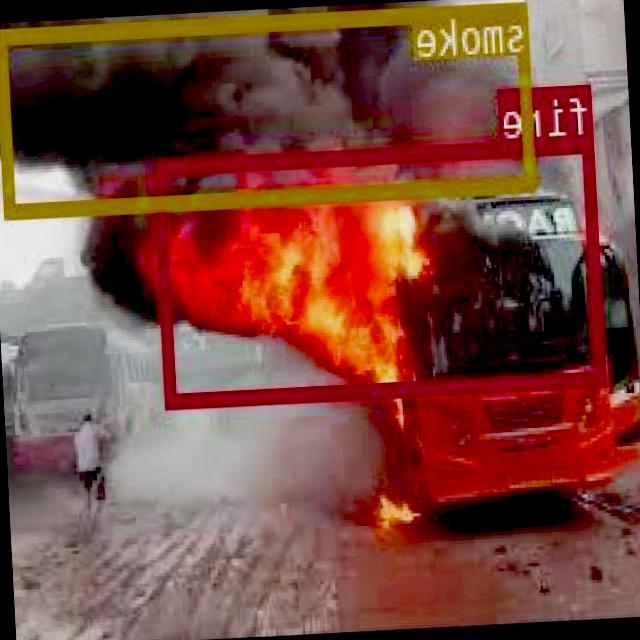fire: (156, 135, 608, 407)
smoke: (0, 0, 538, 216)
